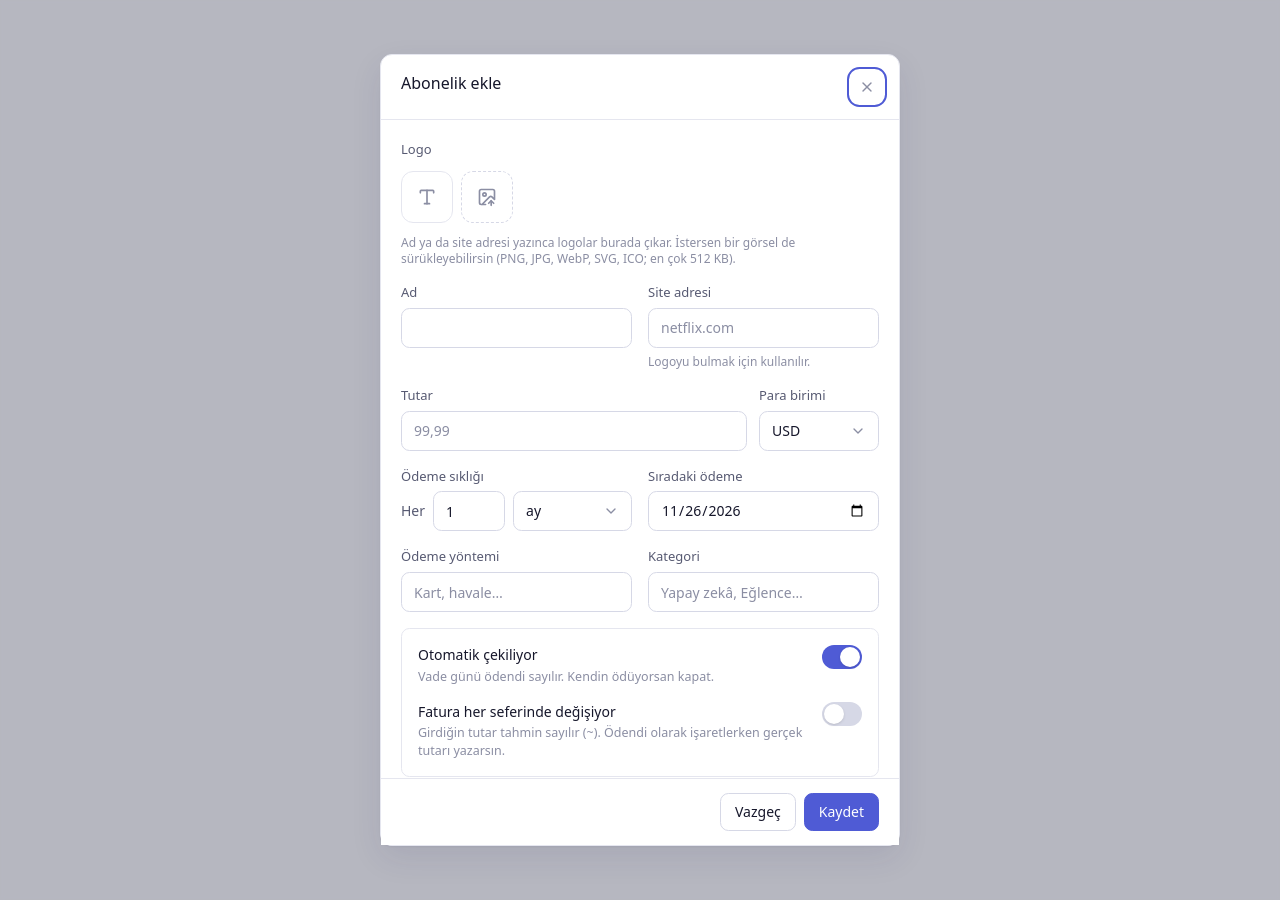
Test case: SubscriptionForm › form shows validation error for empty name
Type "10" into the field labelled "Tutar" at [574, 430], box [401, 410, 747, 450]
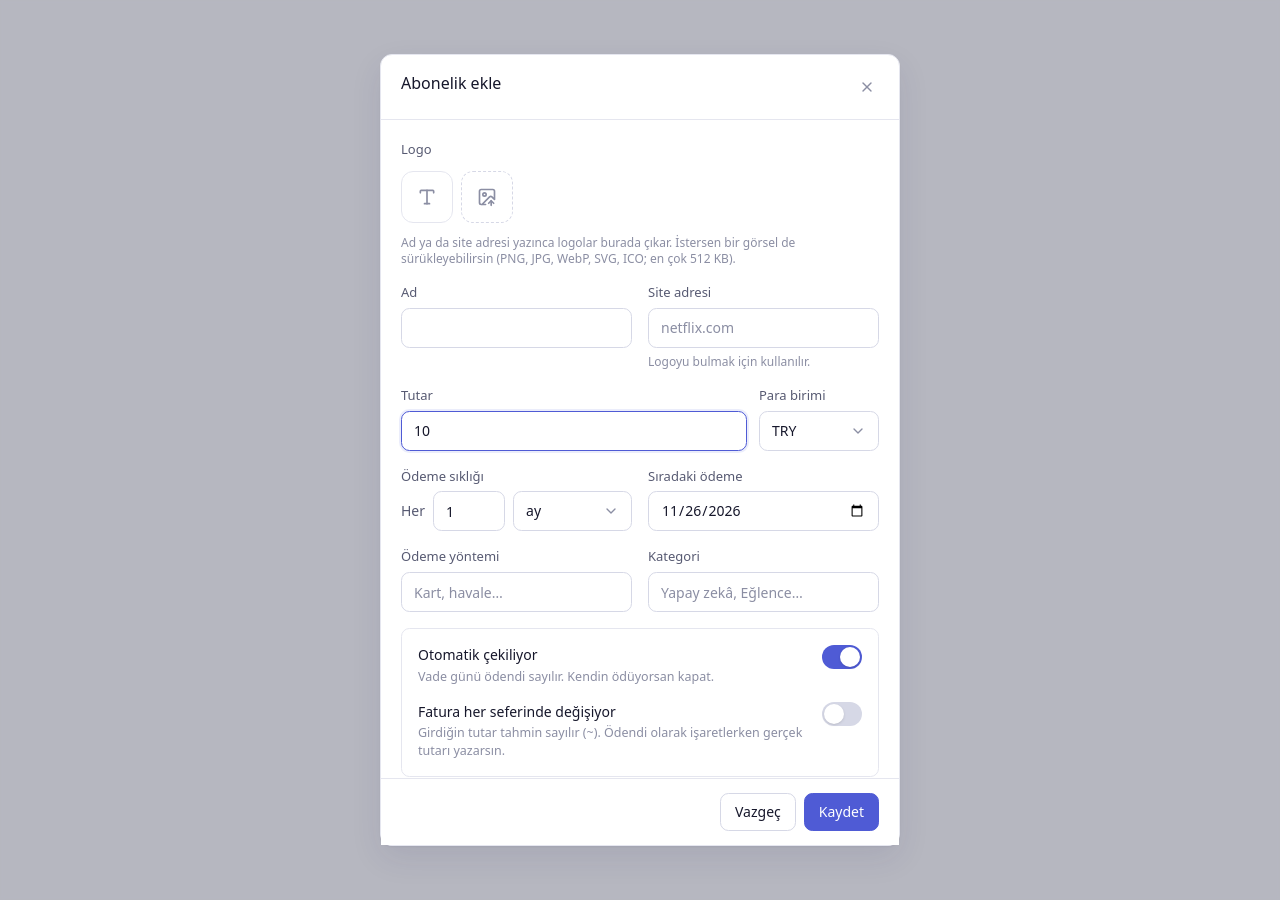
Click the button "Kaydet" at [841, 812], box [804, 793, 879, 831]
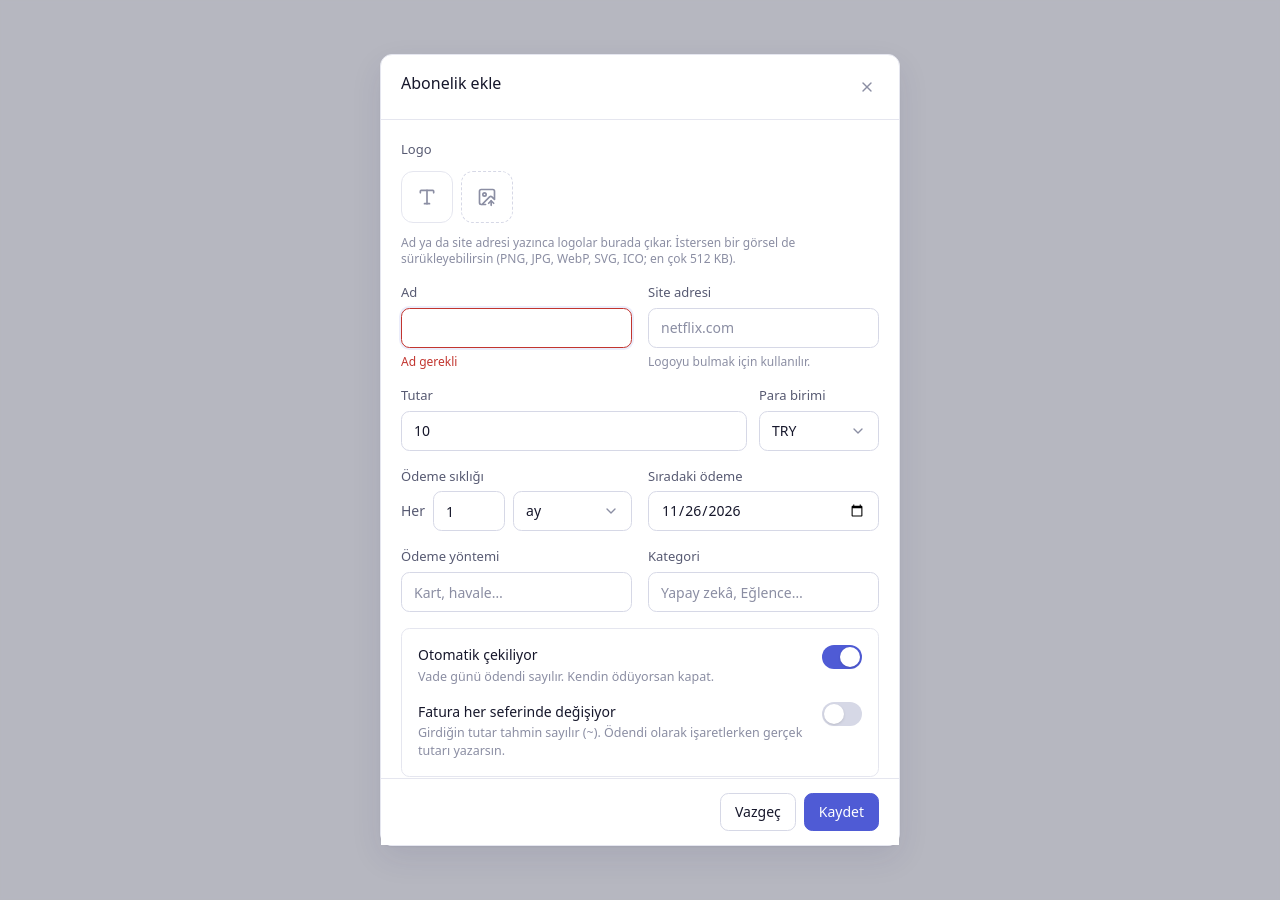
Expected: the text "Ad gerekli" is shown, [401, 353, 457, 370]
